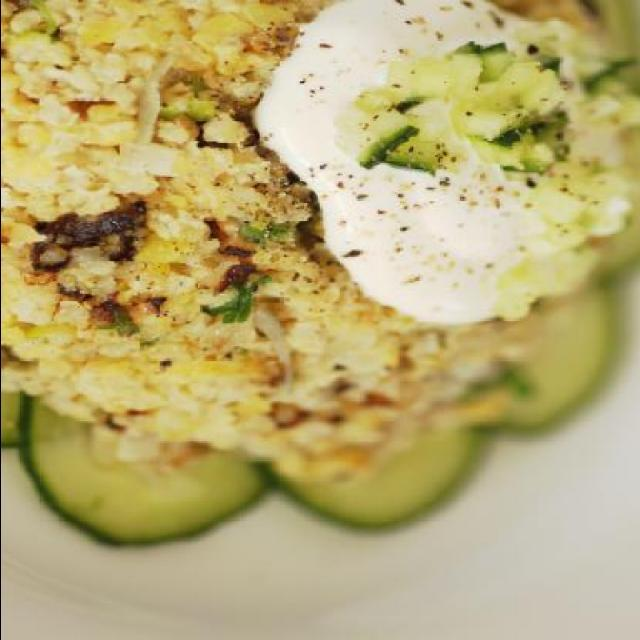Zucchini: (29, 388, 278, 550), (256, 422, 488, 536), (483, 280, 620, 442), (0, 391, 22, 446)
